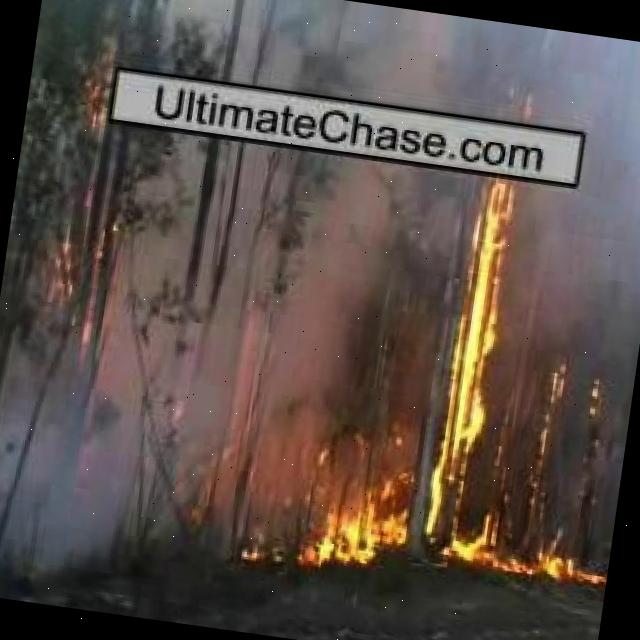fire: (424, 156, 522, 564), (259, 435, 420, 578), (28, 210, 108, 342), (476, 514, 610, 590), (63, 34, 131, 150), (530, 361, 574, 486)
